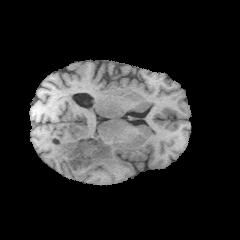glioma: (51, 130, 127, 180)
